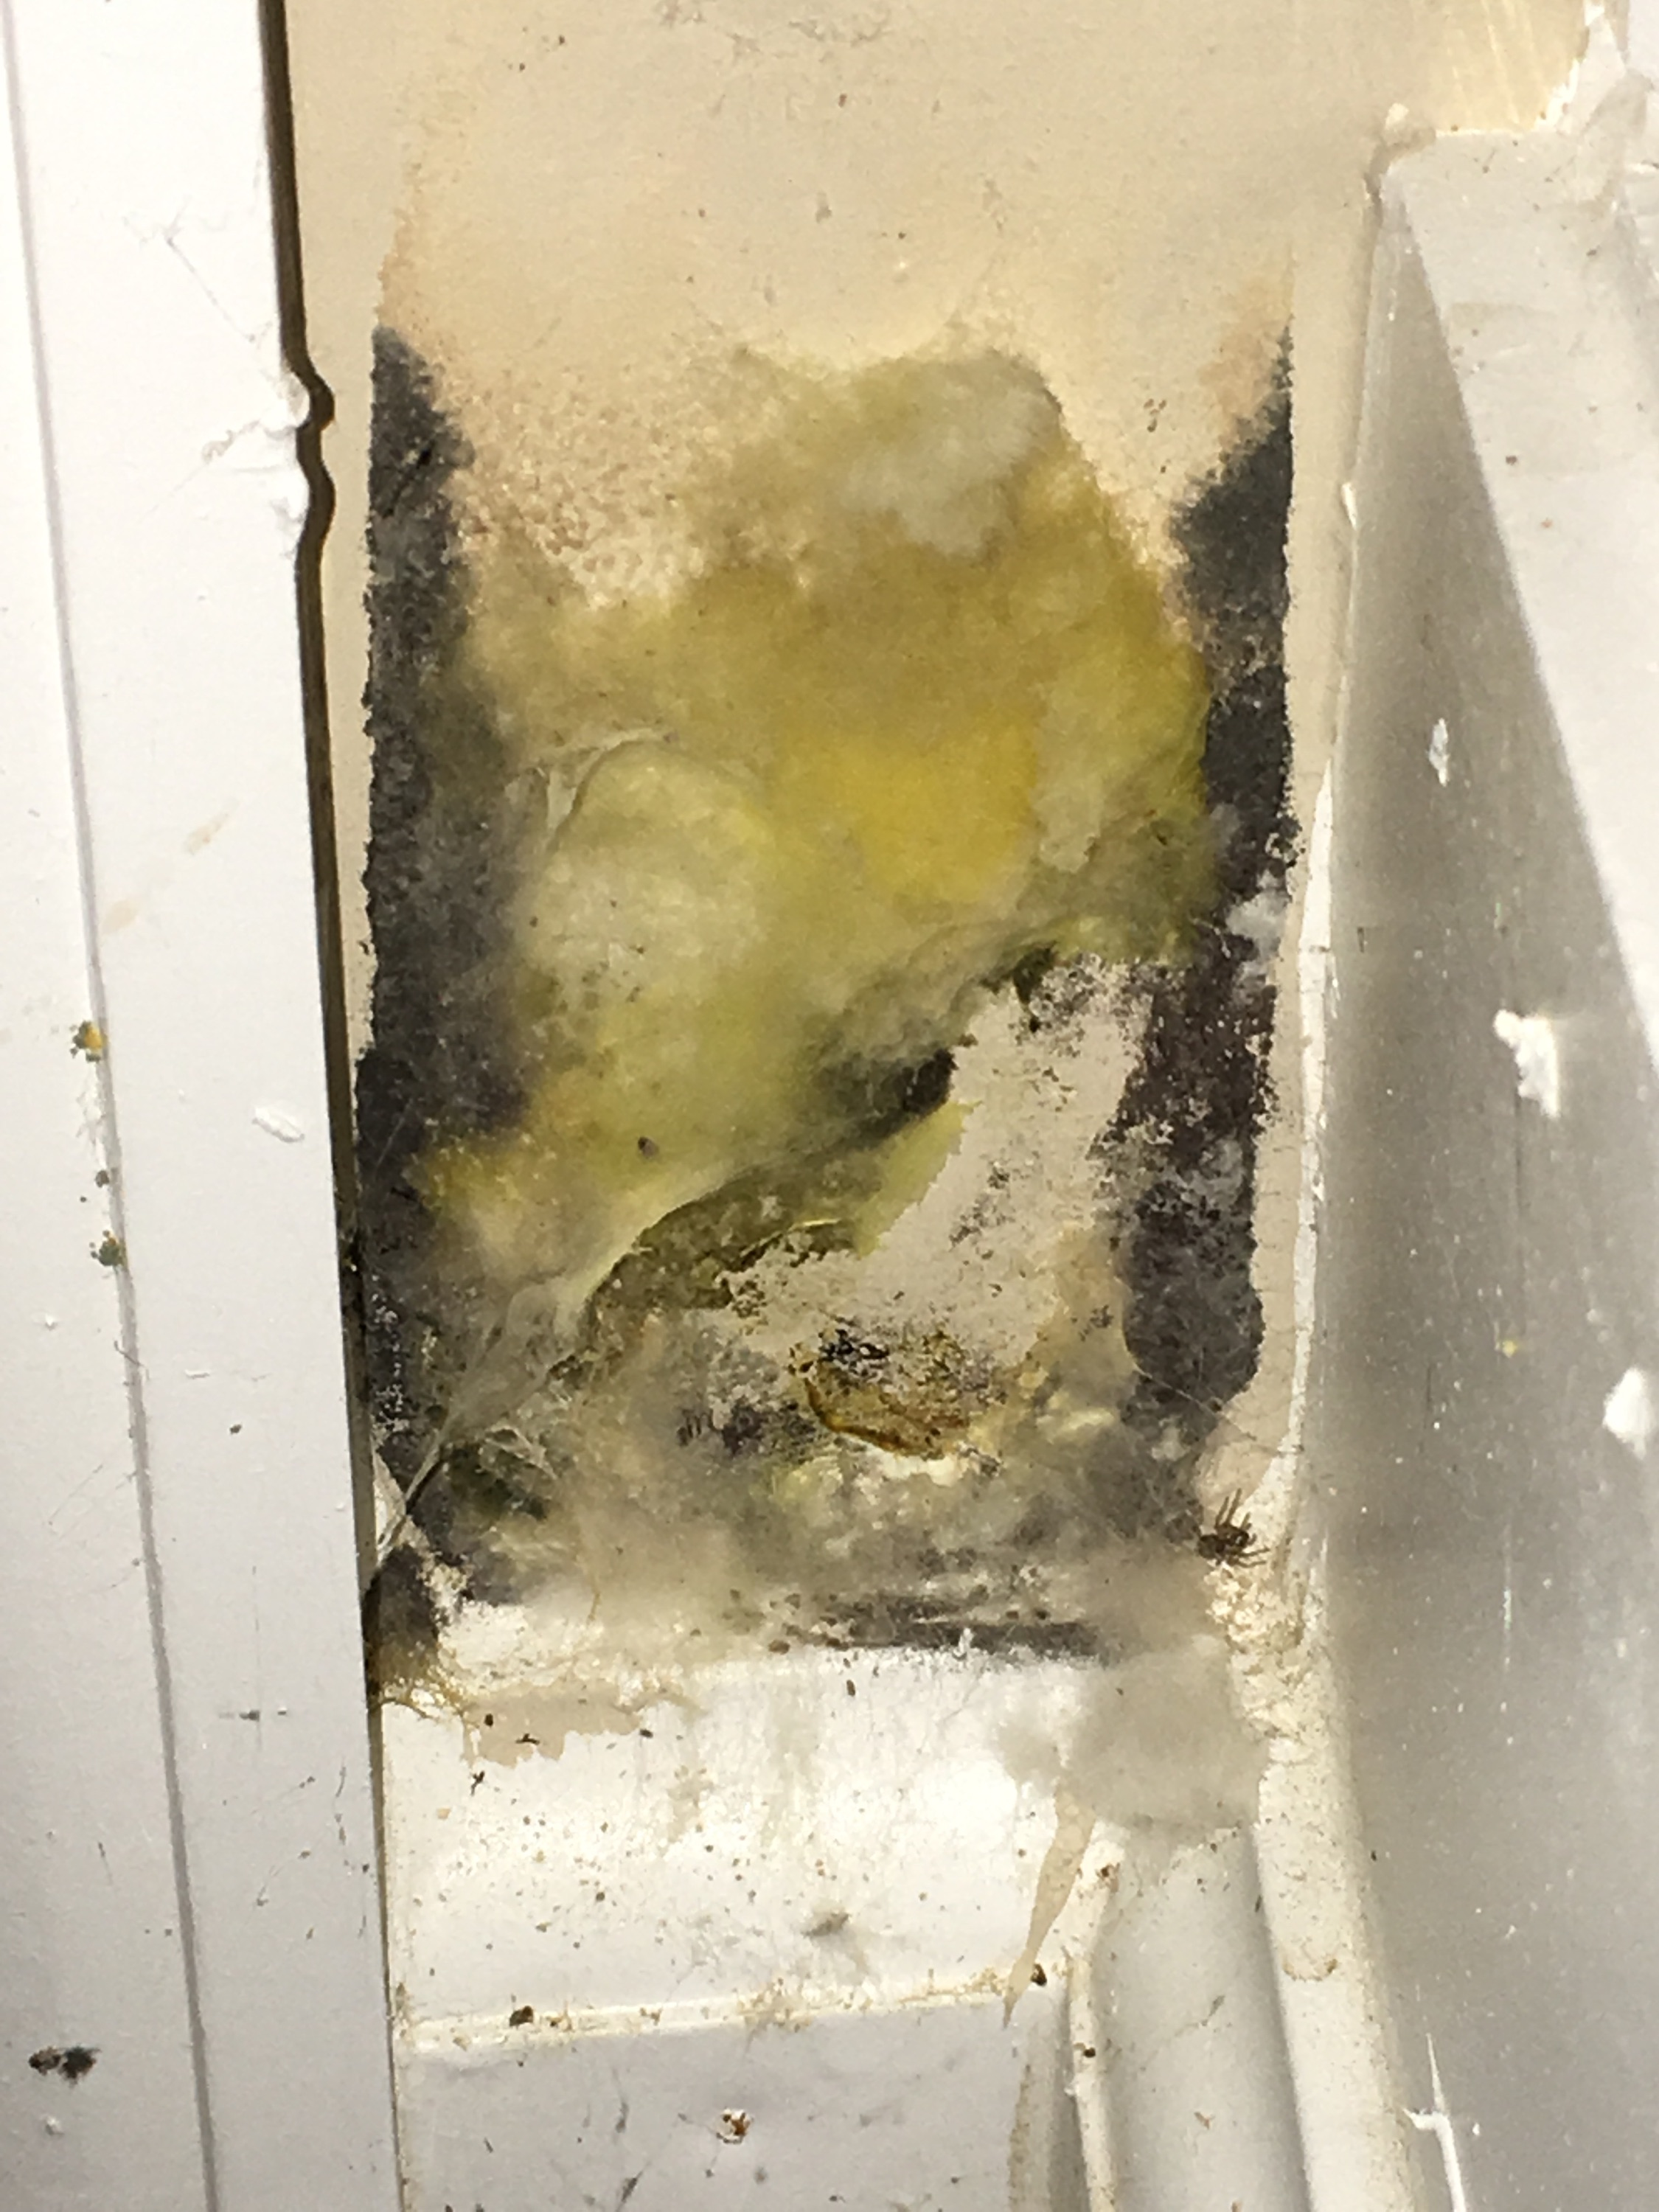Cladosporium: (340, 305, 1096, 784), (706, 944, 1270, 1507), (347, 1228, 660, 1684), (1131, 341, 1323, 939)
